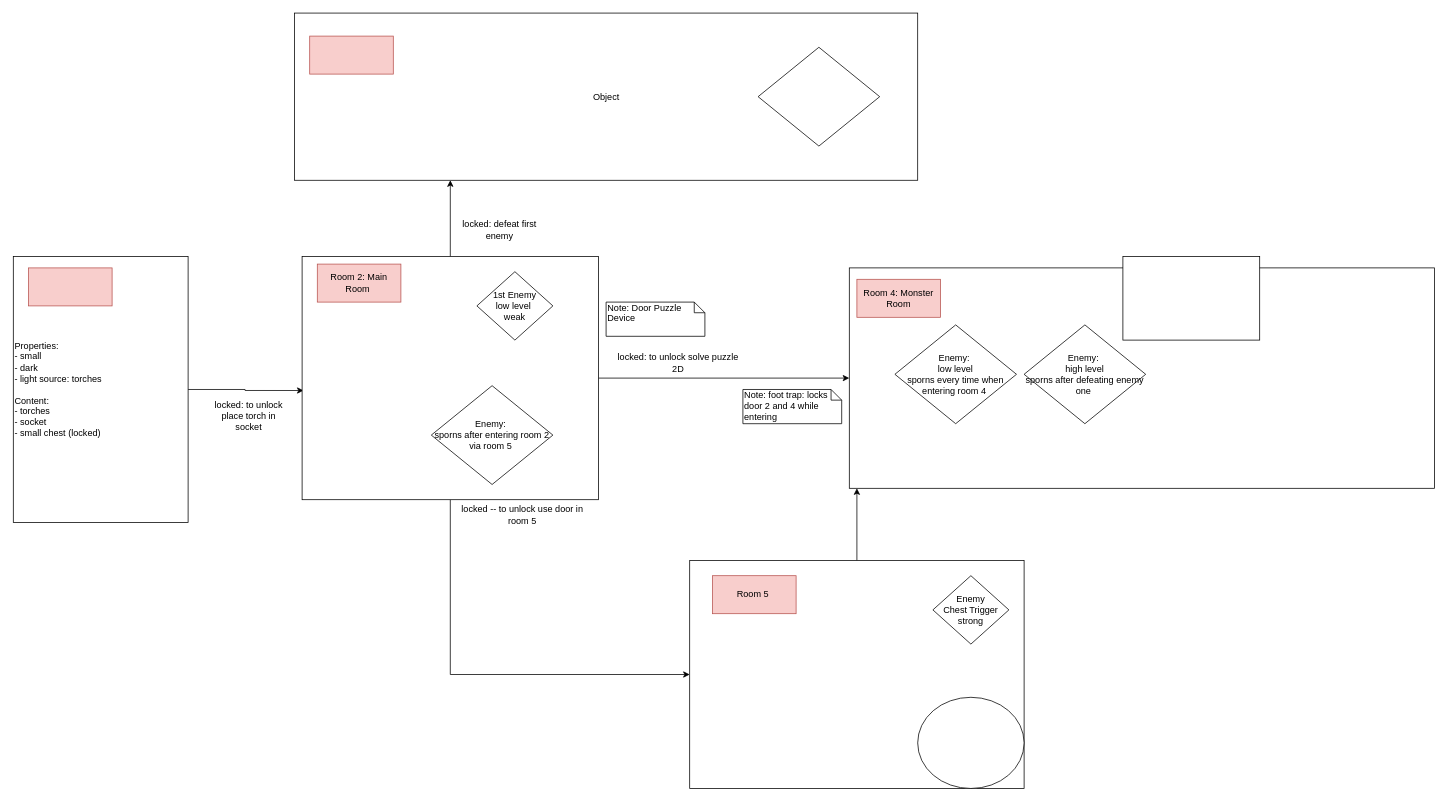
The diagram is 1448 pixels wide and 803 high, and some of its shapes have lost their labels. Here are the shapes that lost their labels. From the top down, the centre of each, then its label:
At point (351, 54): "Room 3".
At point (818, 96): "second Enemy: high level Key Carrier".
At point (70, 286): "Room 1: Starting Room".
At point (1191, 298): "Small keyhole to remlock the doors to room 2 and 4".
At point (970, 742): "Exit area can be entered with the exist key Entering is required to win.".
